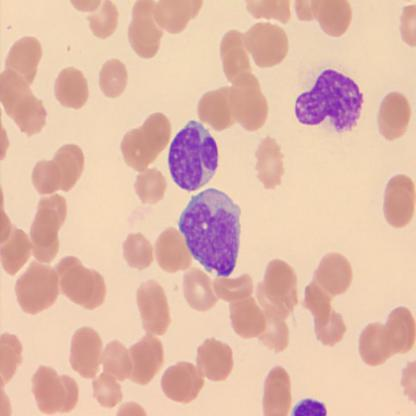Blast: (177, 186, 244, 280), (166, 116, 220, 193)
